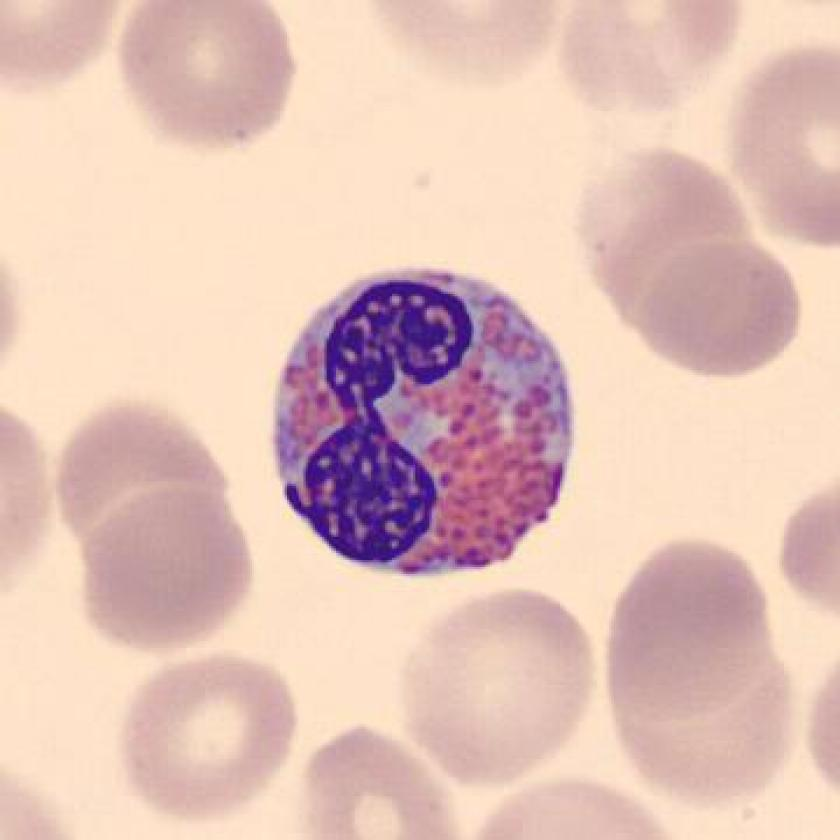eosinophil: (248, 247, 594, 594)
